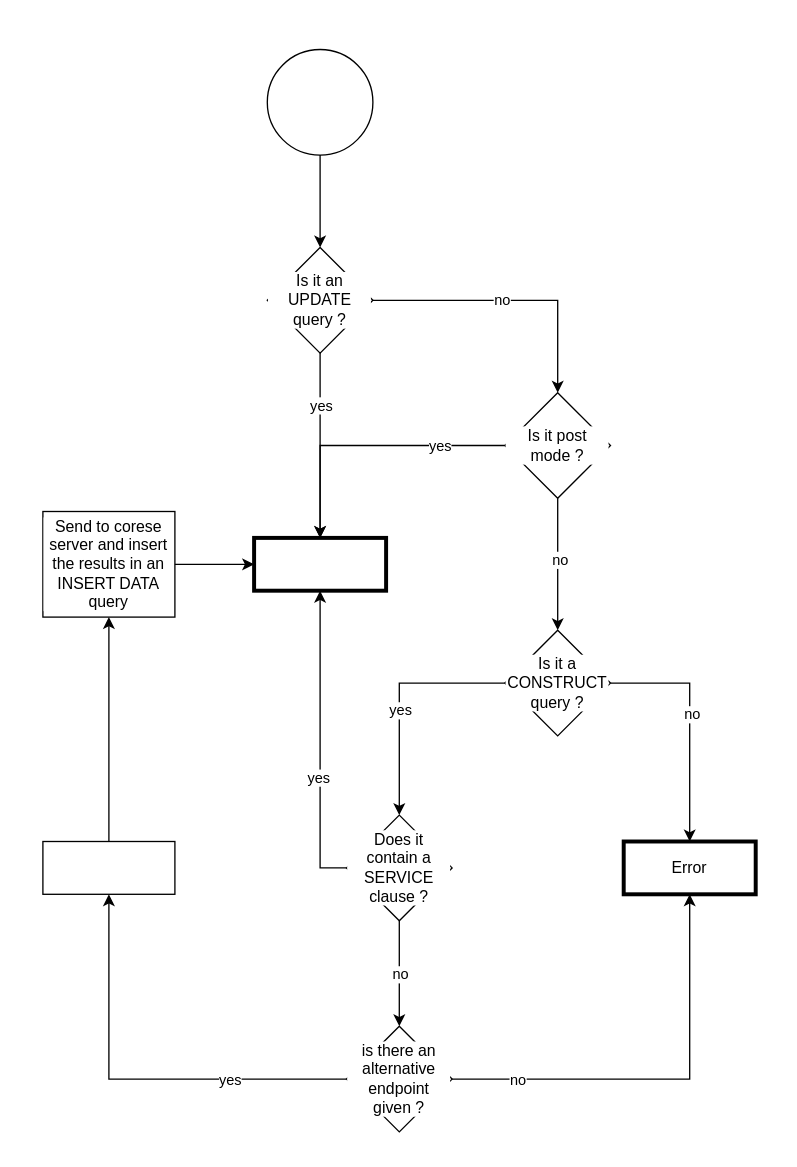
This 797x1167 diagram has some shape labels left out. The shapes that lost their labels are listed below. From the top down, each one's centre as x and y in pixels, then its label:
At [319,101]: "Action".
At [319,563]: "Send to corese server".
At [108,867]: "Graph pattern inserted in a SERVICE clause".
